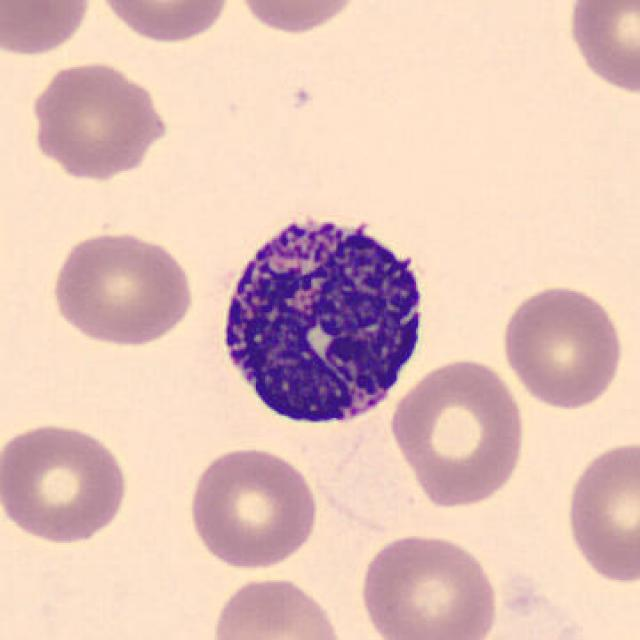Basophil: (208, 198, 439, 438)
RBC: (386, 354, 530, 512), (46, 228, 198, 349), (25, 56, 171, 180), (185, 443, 322, 573), (496, 280, 626, 412), (2, 418, 133, 548), (356, 529, 502, 640), (560, 435, 638, 589), (206, 573, 350, 640), (562, 0, 638, 99), (93, 0, 235, 46), (0, 0, 94, 58), (231, 0, 368, 37)
